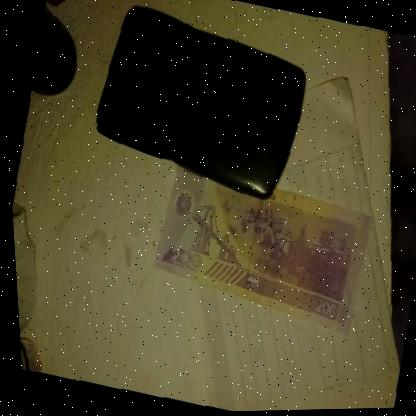two_hundred-back-vef: (137, 158, 379, 342)
